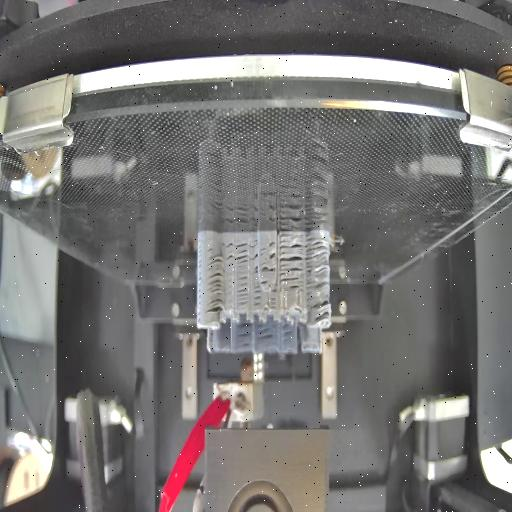cracks: (306, 238, 328, 288), (206, 255, 224, 313), (279, 238, 304, 273), (310, 300, 332, 322), (236, 274, 248, 306), (278, 277, 300, 292), (250, 240, 258, 276), (257, 324, 272, 342), (236, 244, 248, 264), (224, 242, 234, 265), (237, 324, 253, 338), (260, 264, 276, 276), (270, 286, 278, 308), (252, 286, 260, 308), (267, 241, 276, 258), (280, 326, 292, 336), (260, 278, 270, 289), (205, 247, 214, 253), (240, 343, 250, 347)
